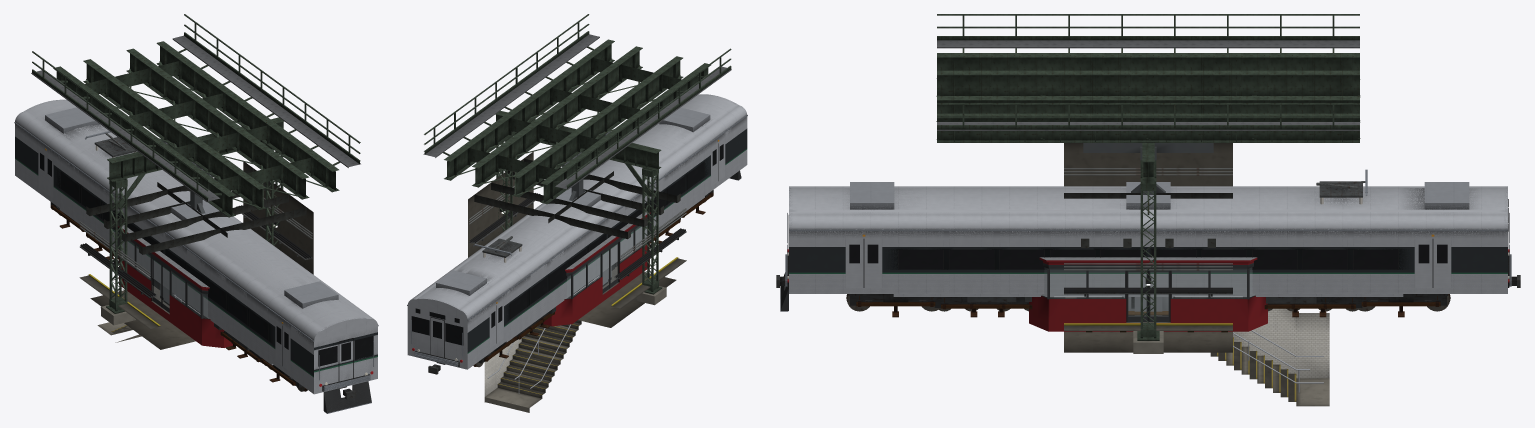
Rendered from rail.glb.
The picture shows the model from 3 angles, left to right: view 1: azimuth 30°, elevation 25°; view 2: azimuth 150°, elevation 25°; view 3: azimuth 270°, elevation 25°; orthographic projection. The views are drawn at different scales.
Parts seen in each view (by area): view 1: el_viaduct, commuter_car, commuter_car_lod, tunnel_segment, tram_cabin, tram_door_l1_b, tram_door_l1_a, subway_car, stair_down; view 2: el_viaduct, commuter_car, commuter_car_lod, tunnel_segment, stair_down, tram_cabin, tram_door_l1_a; view 3: commuter_car, el_viaduct, commuter_car_lod, tram_cabin, tunnel_segment, stair_down, subway_car_lod, commuter_bogie_r, commuter_bogie_f, tram_door_r1_a, tram_door_r1_b.
Part boxes in pixels (box(x1,y1,x2,y2)): el_viaduct: box(31, 14, 360, 325); commuter_car: box(14, 99, 378, 413); commuter_car_lod: box(15, 99, 377, 413); tunnel_segment: box(79, 162, 313, 349); tram_cabin: box(117, 140, 232, 347); tram_door_l1_b: box(152, 258, 161, 306); tram_door_l1_a: box(161, 265, 171, 312); subway_car: box(60, 209, 272, 364); stair_down: box(97, 277, 141, 342); el_viaduct: box(423, 14, 731, 305); commuter_car: box(407, 94, 747, 374); commuter_car_lod: box(407, 94, 747, 373); tunnel_segment: box(468, 151, 686, 327); stair_down: box(484, 320, 581, 412); tram_cabin: box(543, 131, 651, 326); tram_door_l1_a: box(609, 242, 618, 288); commuter_car: box(776, 169, 1520, 311); el_viaduct: box(936, 14, 1360, 353); commuter_car_lod: box(776, 181, 1520, 311); tram_cabin: box(1029, 143, 1267, 331); tunnel_segment: box(1064, 143, 1232, 352); stair_down: box(1210, 308, 1329, 406); subway_car_lod: box(893, 294, 1403, 308); commuter_bogie_r: box(1356, 294, 1450, 317); commuter_bogie_f: box(846, 294, 938, 317); tram_door_r1_a: box(1148, 270, 1170, 321); tram_door_r1_b: box(1126, 270, 1148, 321).
Bounding box in the file's own units: 8.9 × 13.55 × 26.8.
Materials: 2 (1 with a texture image).
